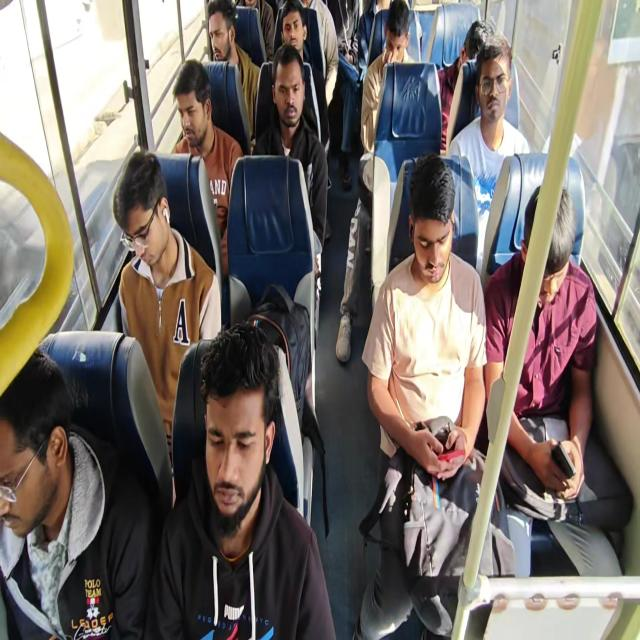person: (191, 343, 307, 640), (0, 333, 101, 612), (508, 136, 578, 302), (92, 143, 168, 292), (422, 183, 487, 306), (175, 66, 230, 160), (202, 7, 260, 90), (264, 59, 318, 133), (451, 18, 504, 86), (477, 51, 513, 134), (384, 11, 424, 77), (278, 0, 310, 70)
